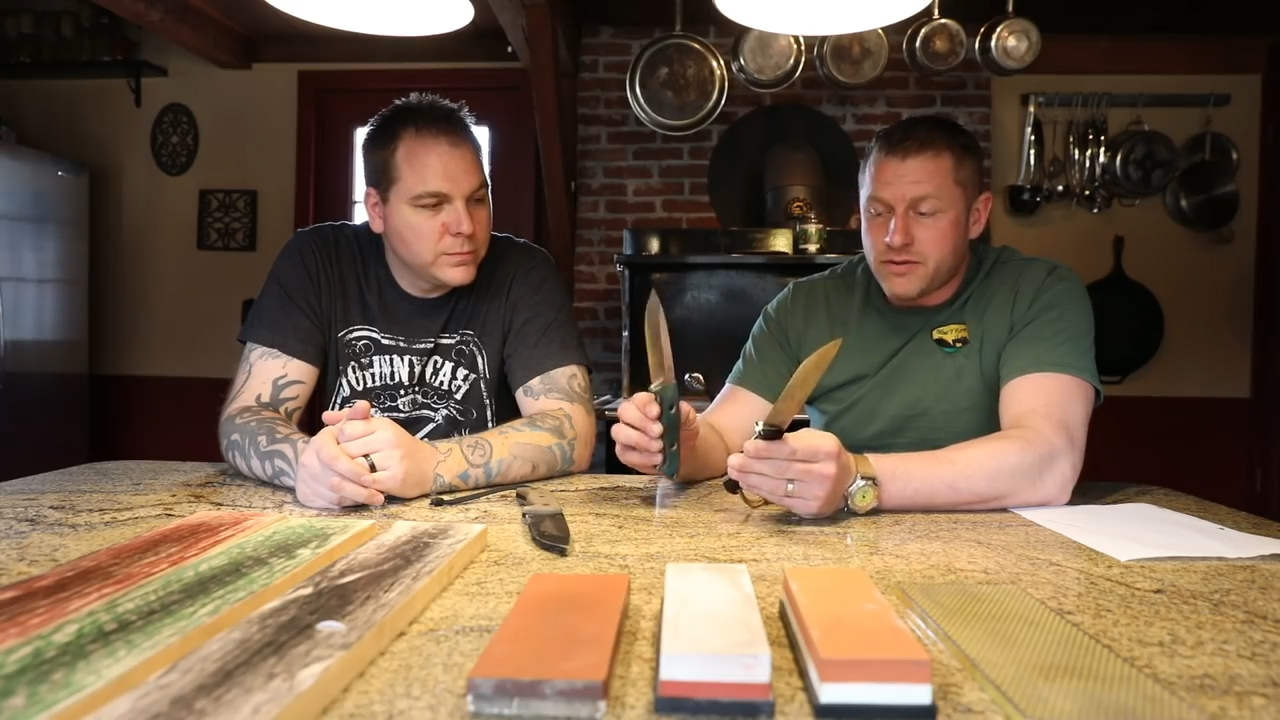knife: (722, 329, 861, 484), (609, 273, 702, 450)
